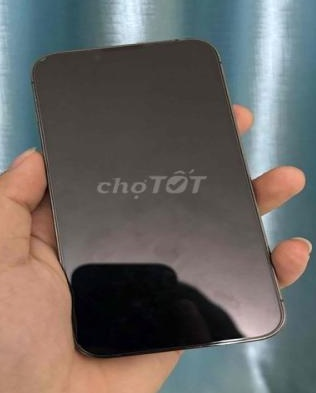scratch: (29, 45, 89, 76)
